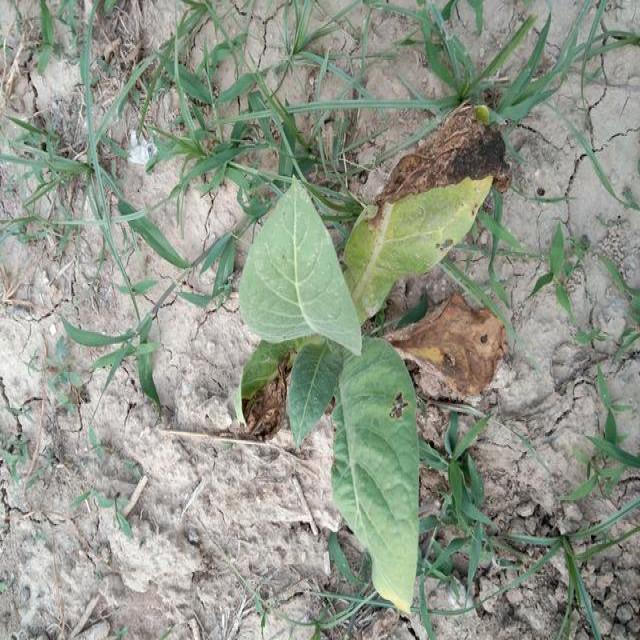crop: (243, 127, 498, 610)
